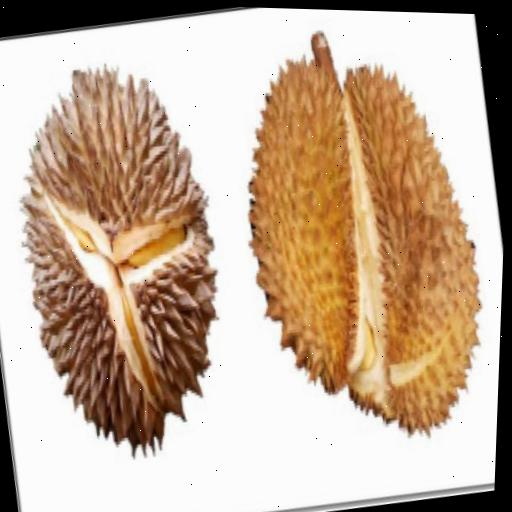rot: (198, 6, 512, 463), (0, 19, 278, 498)
